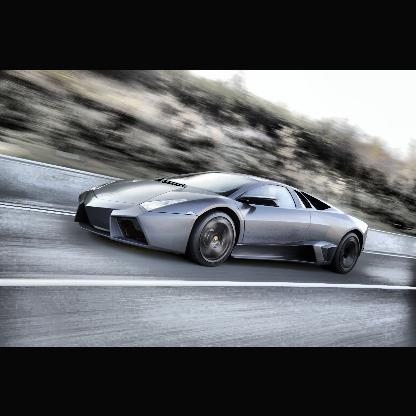Lamborghini Reventon Coupe 2008: (75, 170, 370, 275)
